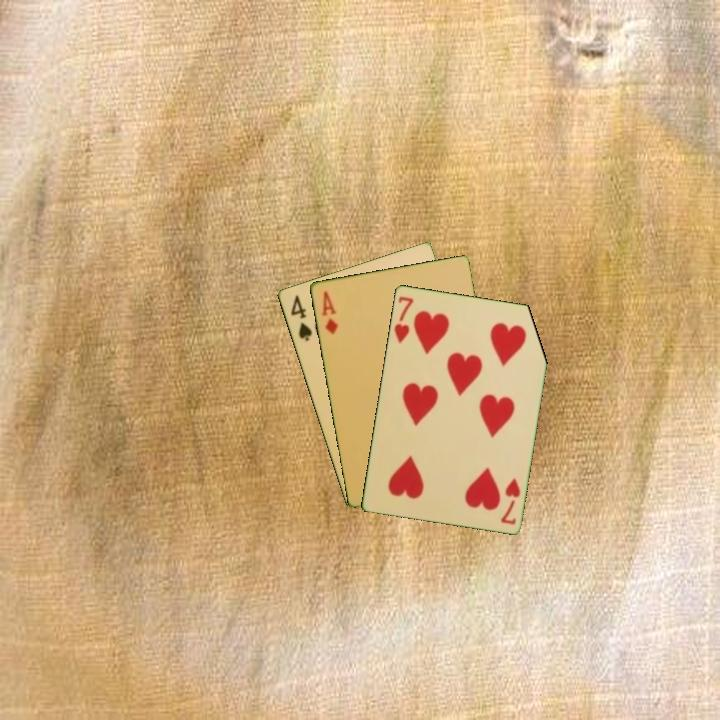4s: (287, 291, 315, 344)
7h: (390, 292, 416, 345), (497, 475, 523, 527)
Ad: (318, 287, 341, 337)
